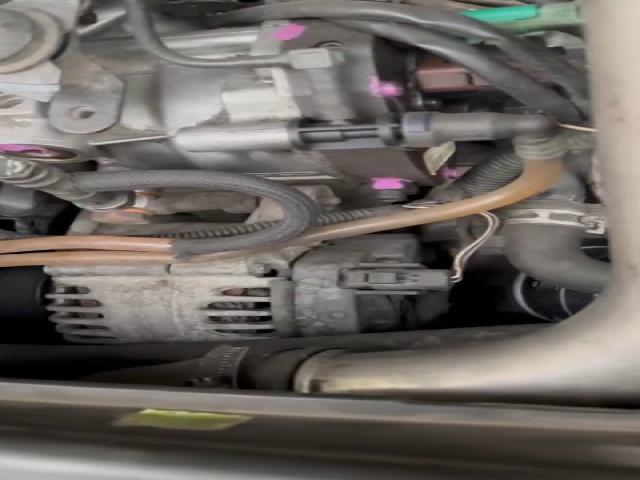alternator: (40, 234, 460, 346)
high_pressure_pump: (1, 15, 474, 201)
